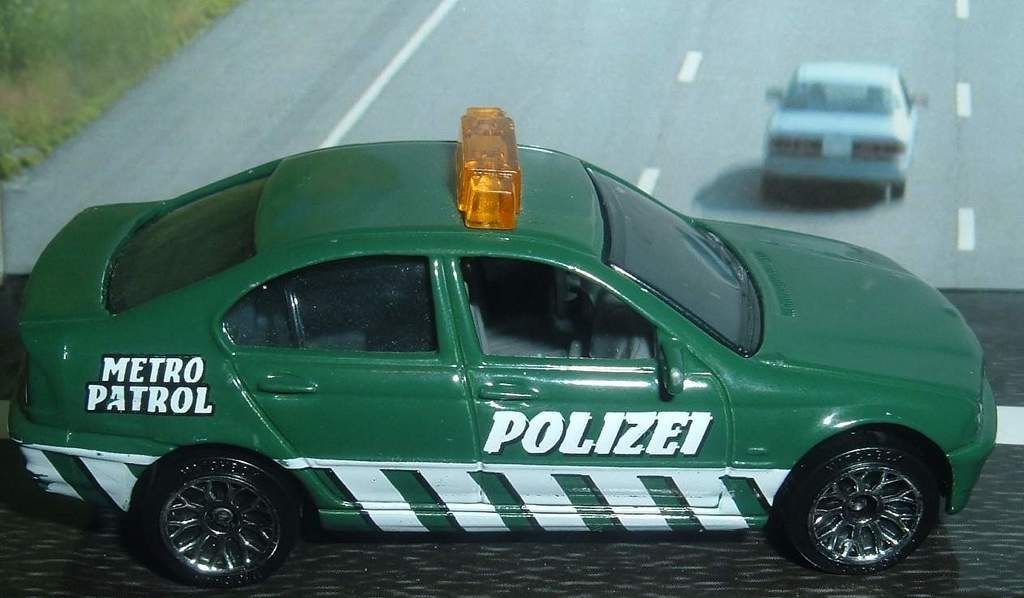car: (1, 97, 1002, 592), (734, 49, 943, 199)
